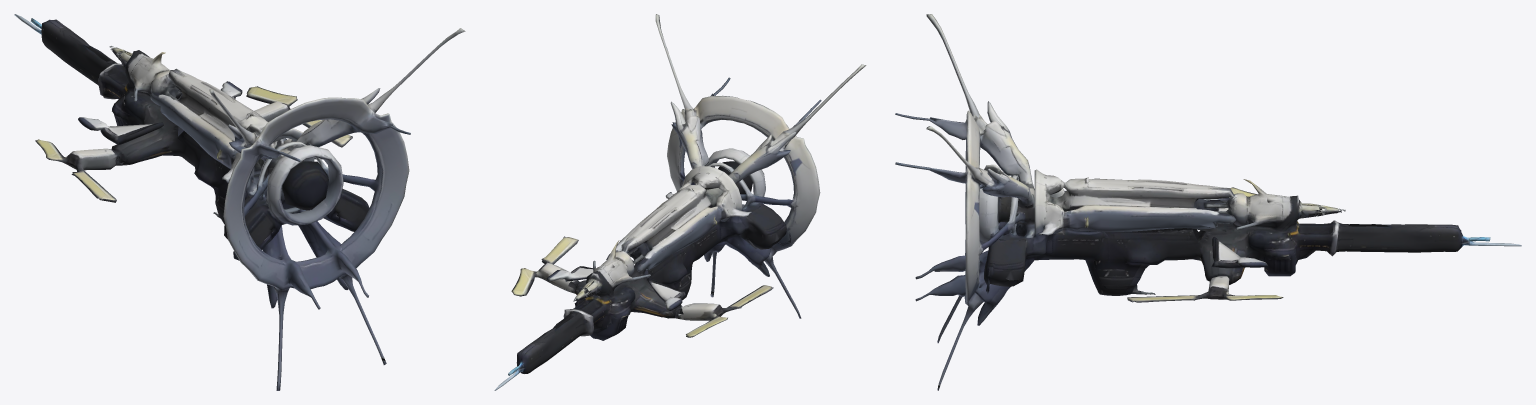
The model's file is hss_new_desktop.glb.
3 renders of one model, left to right at view 1: azimuth 30°, elevation 25°; view 2: azimuth 150°, elevation 25°; view 3: azimuth 270°, elevation 25°, orthographic. The views are drawn at different scales.
Visible parts, largest first — view 1: HSS_Station; view 2: HSS_Station; view 3: HSS_Station.
Boxes of the visible parts, x1=… form: HSS_Station: x1=14, y1=14, x2=465, y2=390; HSS_Station: x1=494, y1=14, x2=866, y2=390; HSS_Station: x1=895, y1=14, x2=1521, y2=390.
Bounding box in the file's own units: 33.35 × 40.23 × 77.
Materials: 1 (1 with a texture image).
